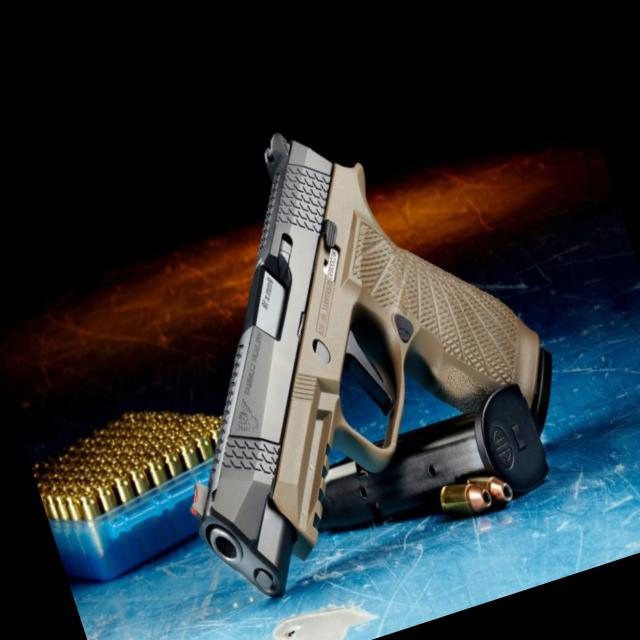Weapon: (84, 68, 607, 628)
